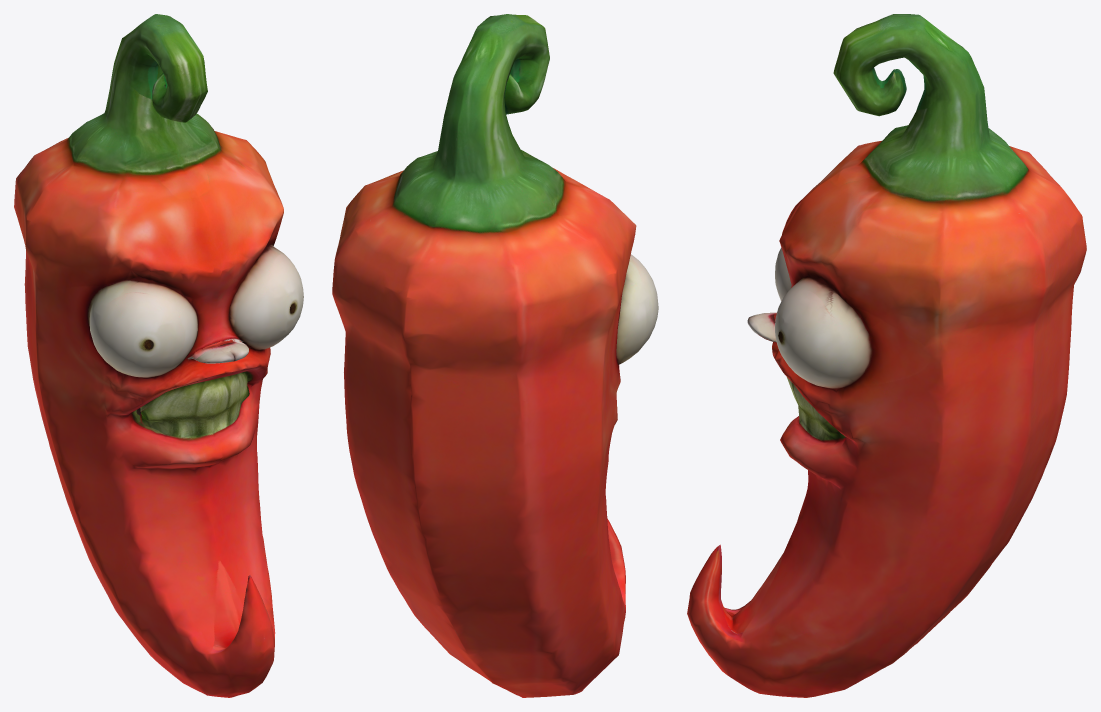
Rendered from Meshy_AI_Spicy_Jalapeno_0301181518_texture.glb.
3 views of the same model, side by side, from view 1: azimuth 30°, elevation 25°; view 2: azimuth 150°, elevation 25°; view 3: azimuth 270°, elevation 25° (orthographic). The views are drawn at different scales.
Visible parts, largest first — view 1: Mesh_0; view 2: Mesh_0; view 3: Mesh_0.
Boxes of the visible parts, left/top/right/bottom form: Mesh_0: left=14, top=14, right=303, bottom=697; Mesh_0: left=332, top=14, right=658, bottom=697; Mesh_0: left=687, top=14, right=1086, bottom=697.
Bounding box in the file's own units: 0.4001 × 1 × 0.5364.
1 material, 1 textured.
